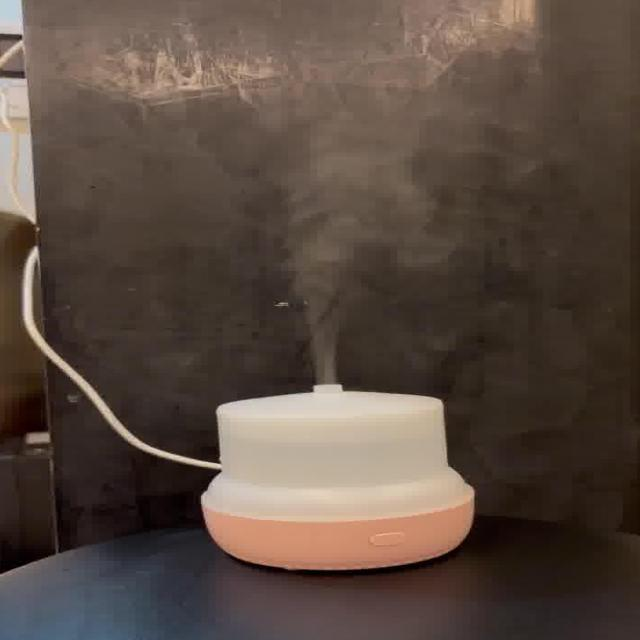fire: (238, 125, 433, 382)
